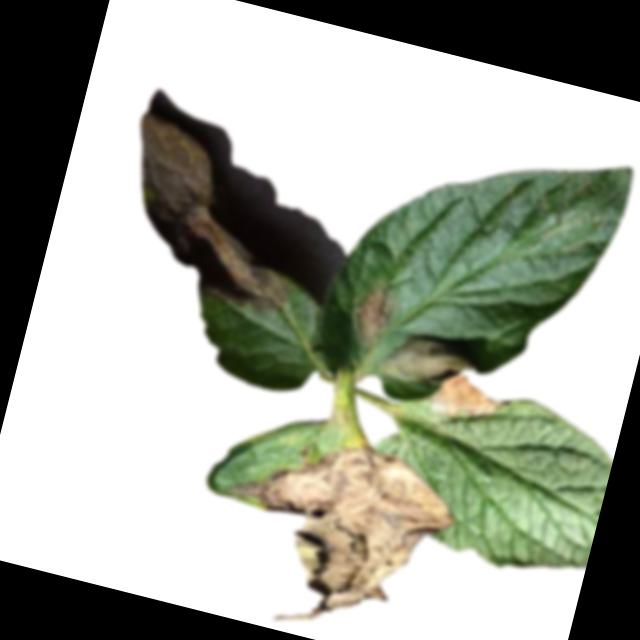Late_blight: (194, 415, 469, 640), (99, 110, 324, 321), (372, 327, 479, 397), (424, 367, 507, 427), (343, 279, 397, 348)
